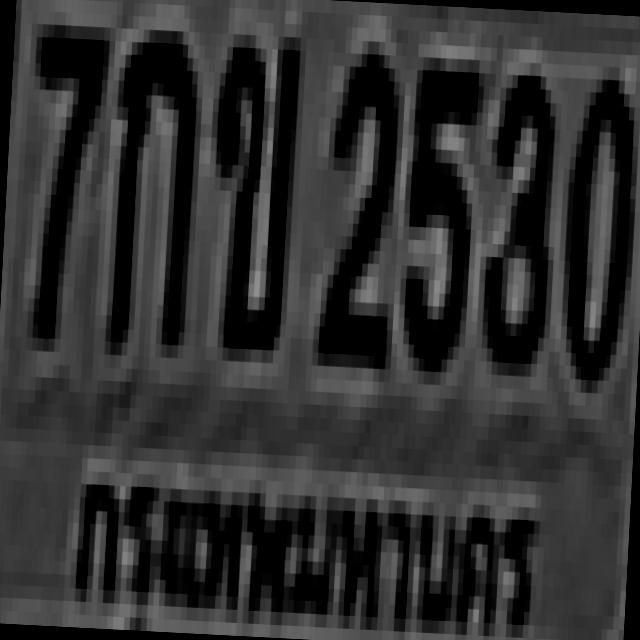0: (553, 65, 637, 382)
10GorGai: (102, 16, 198, 346)
11KhorKhai: (201, 21, 296, 350)
2: (313, 39, 397, 356)
3: (475, 61, 553, 364)
5: (397, 57, 480, 360)
7: (21, 11, 105, 341)
Bangkok: (56, 431, 549, 640)
